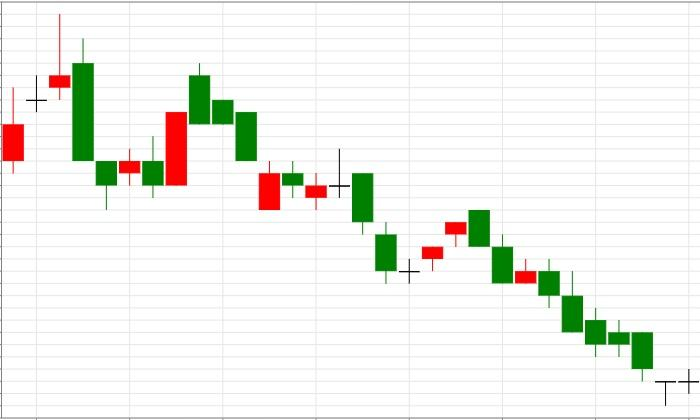morning_star_rise: (329, 148, 444, 285)
